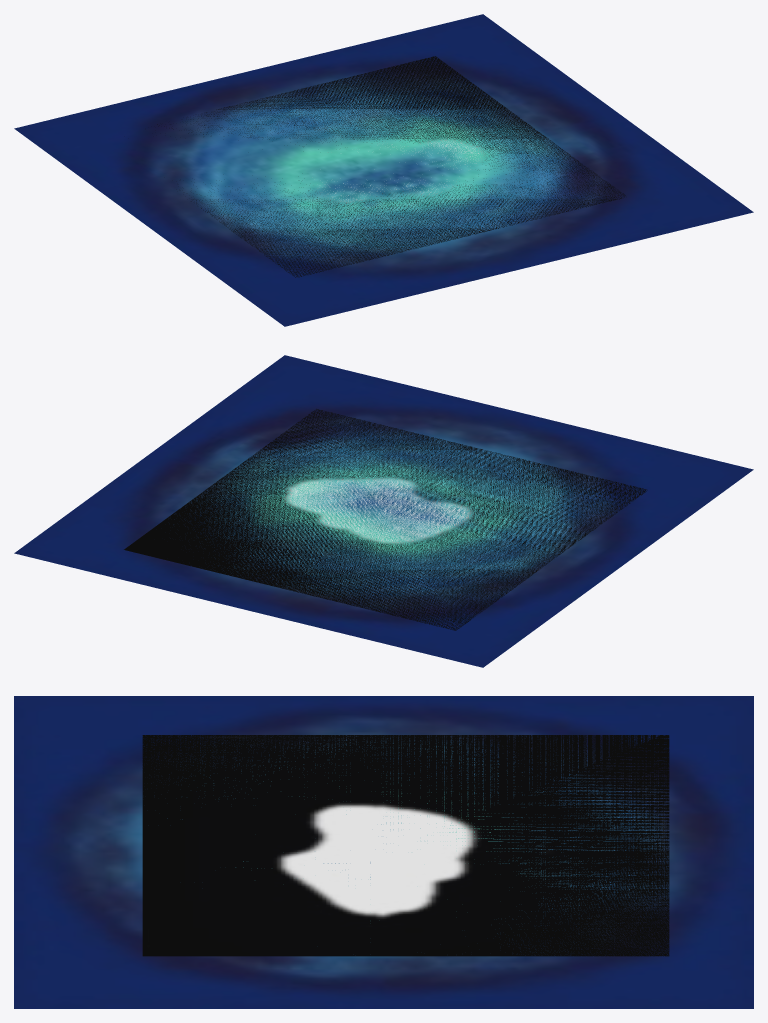
The model's file is pir_m_are_isl_pvpFrench_ocean.fbx.
The picture shows the model from 3 angles, top to bottom: view 1: azimuth 30°, elevation 25°; view 2: azimuth 150°, elevation 25°; view 3: azimuth 270°, elevation 25°; orthographic projection. The views are drawn at different scales.
Parts seen in each view (by area): view 1: water_color, water_alpha; view 2: water_color, water_alpha; view 3: water_color, water_alpha.
Part boxes in pixels (bbox=[...]): water_color: bbox=[14, 14, 753, 326]; water_alpha: bbox=[157, 56, 625, 277]; water_color: bbox=[14, 355, 753, 667]; water_alpha: bbox=[124, 409, 647, 630]; water_color: bbox=[14, 696, 753, 1008]; water_alpha: bbox=[142, 735, 669, 956].
Size of the model in its own units: 258304 by 6894 by 258304.
3 materials, 3 textured.
